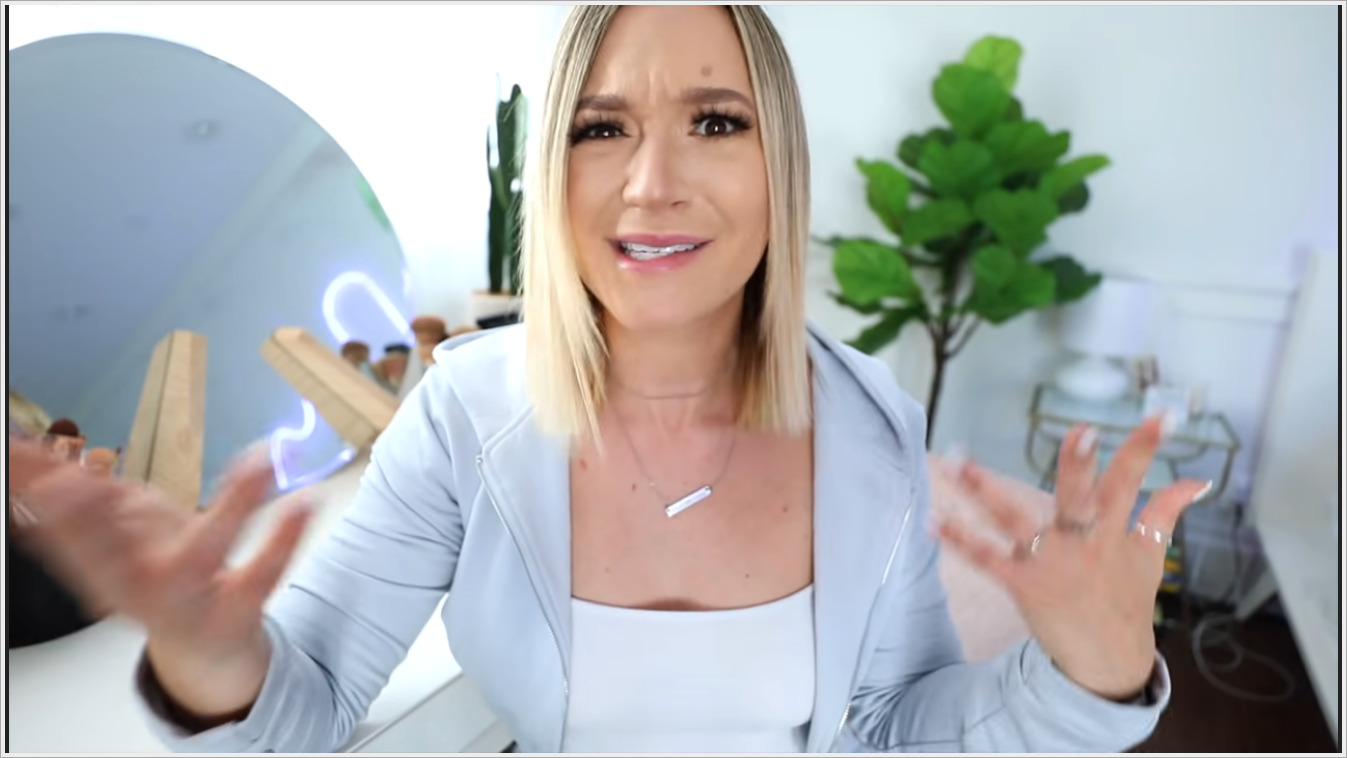hand: (935, 408, 1254, 695), (8, 431, 322, 669)
